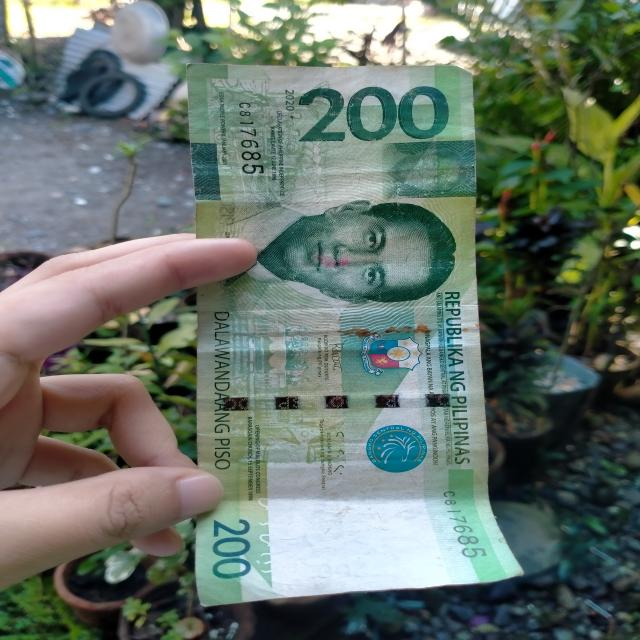concealed_value: (380, 138, 477, 200)
security_thread: (201, 395, 474, 409)
see_through_mark: (244, 487, 287, 581)
serial_number: (438, 486, 486, 565), (234, 100, 266, 178)
value: (293, 82, 452, 148)
